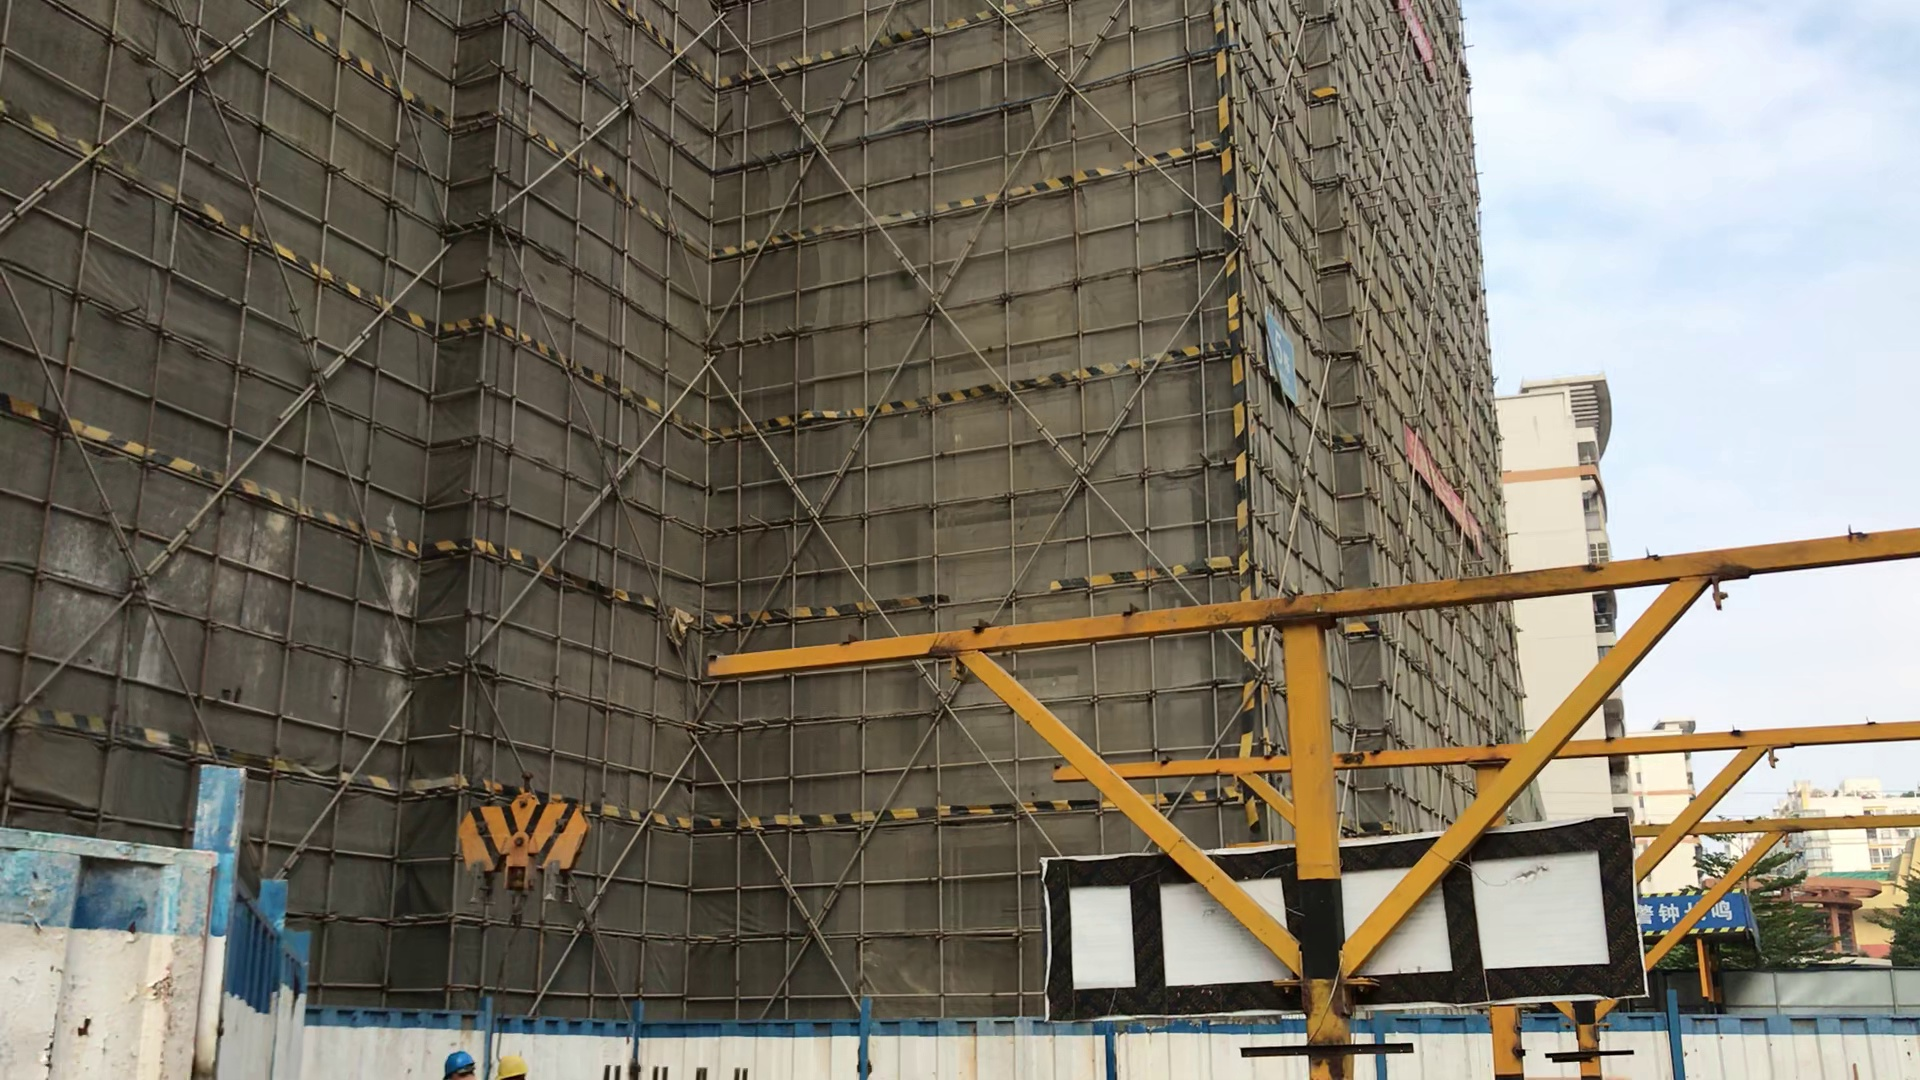helmet: (440, 1050, 483, 1076), (495, 1052, 533, 1080)
hook: (455, 774, 592, 905)
slogan: (1404, 430, 1472, 553)
